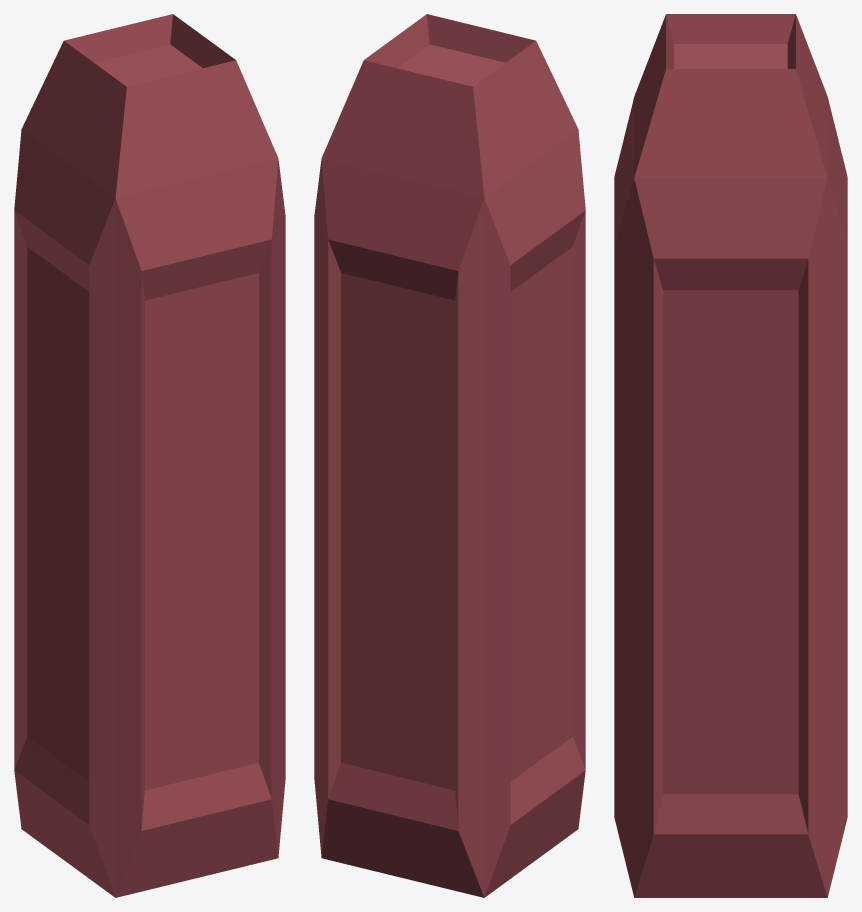
File: 09fpsenemy.glb
3 views of the same model, side by side, from view 1: azimuth 30°, elevation 25°; view 2: azimuth 150°, elevation 25°; view 3: azimuth 270°, elevation 25° (orthographic). The views are drawn at different scales.
Visible parts, largest first — view 1: Cube.001; view 2: Cube.001; view 3: Cube.001.
Part boxes in pixels (x1=…): Cube.001: x1=14, y1=14, x2=285, y2=897; Cube.001: x1=314, y1=14, x2=585, y2=897; Cube.001: x1=614, y1=14, x2=847, y2=897.
Size of the model in its own units: 1.17 by 4.53 by 1.17.
